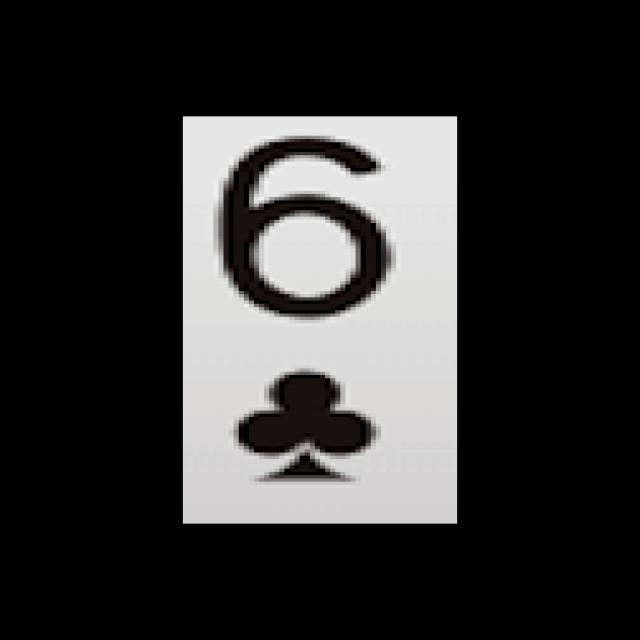6C: (201, 126, 417, 494)
